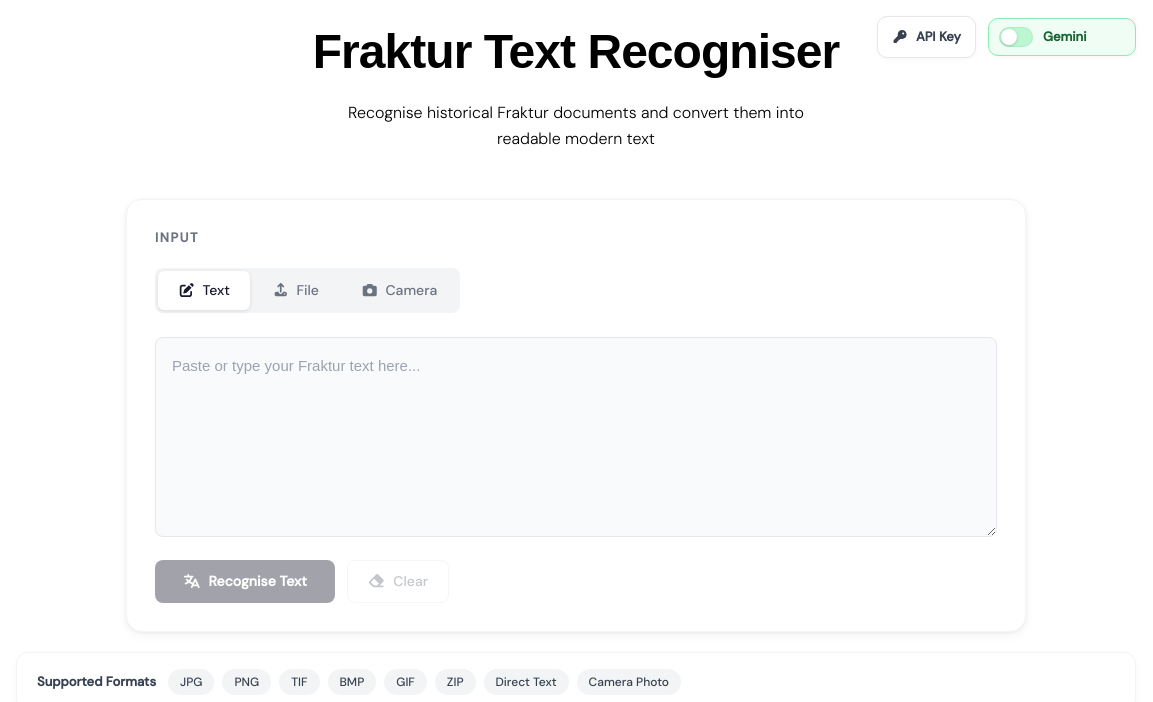
it: TranslatorPage › Clear button clears the textarea
Type "Some text" into the text box with placeholder "Paste or type your Fraktur text here..." at (576, 437), box [155, 337, 997, 537]
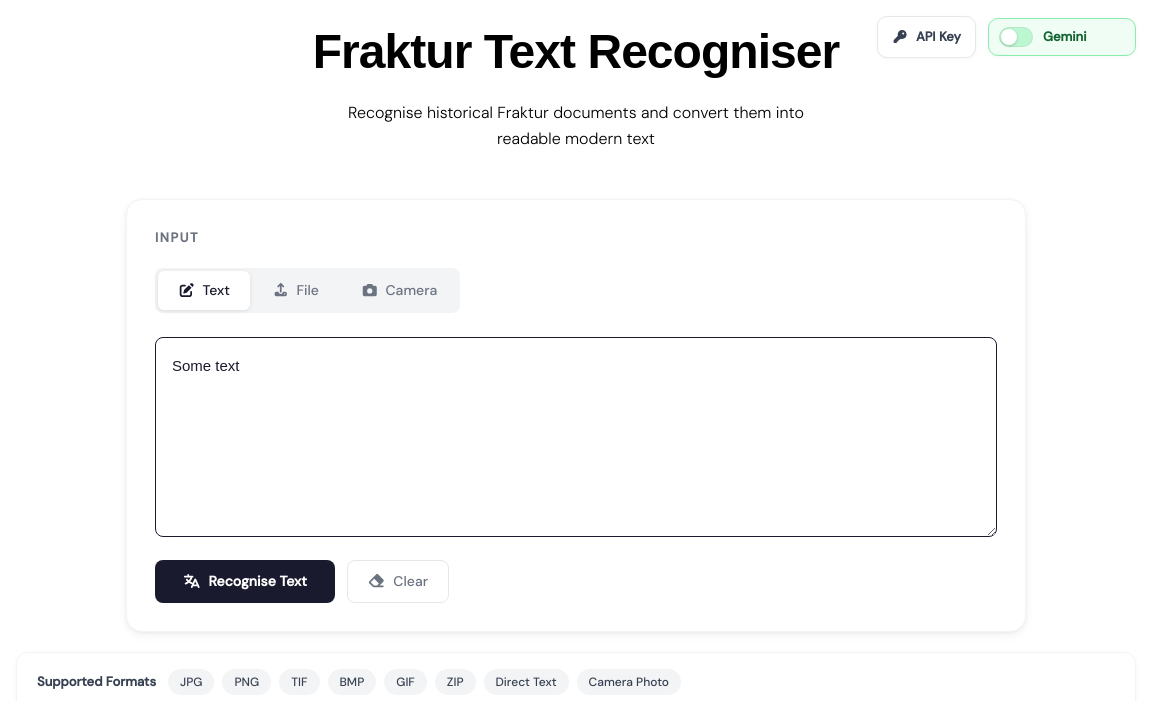
Click the button "Clear" at (398, 581), box [347, 560, 449, 603]
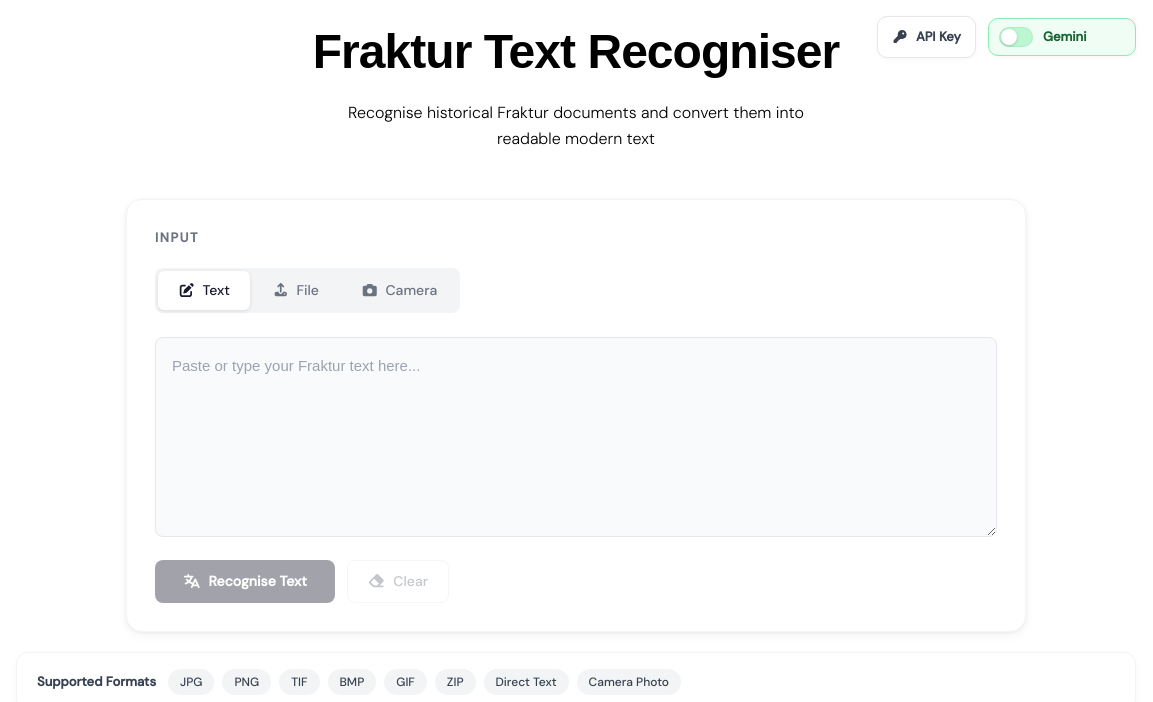
Check: the text box with placeholder "Paste or type your Fraktur text here..." is empty, box [155, 337, 997, 537]
